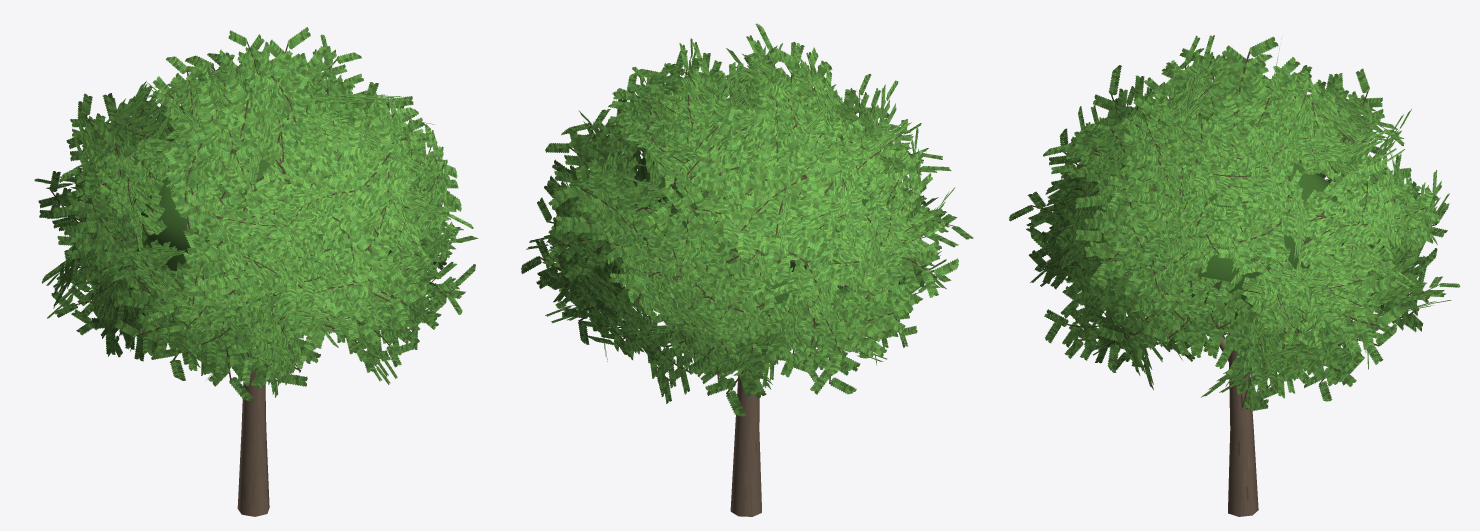
The model's file is STYPHNOLOBIUM_1.glb.
3 renders of one model, left to right at view 1: azimuth 30°, elevation 25°; view 2: azimuth 150°, elevation 25°; view 3: azimuth 270°, elevation 25°, orthographic.
Parts seen in each view (by area): view 1: Arv_STYPHNOLOBIUM_lod1; view 2: Arv_STYPHNOLOBIUM_lod1; view 3: Arv_STYPHNOLOBIUM_lod1.
Boxes of the visible parts, x1,y1,x2,y2 form: Arv_STYPHNOLOBIUM_lod1: [34, 27, 478, 516]; Arv_STYPHNOLOBIUM_lod1: [521, 23, 973, 516]; Arv_STYPHNOLOBIUM_lod1: [1009, 35, 1460, 516].
Size of the model in its own units: 9.78 by 11.26 by 10.07.
Materials: 3 (2 with a texture image).
